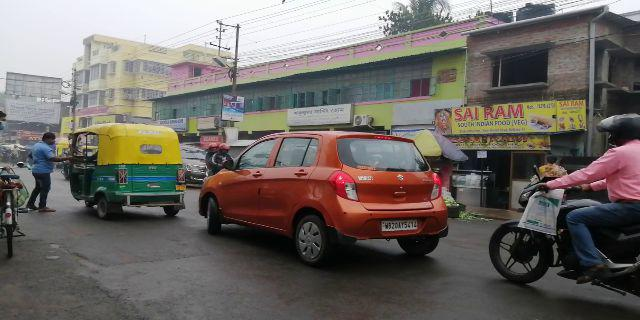Autorickshaw: (207, 131, 456, 259), (72, 123, 192, 214)
Motorbike: (486, 122, 640, 297)
